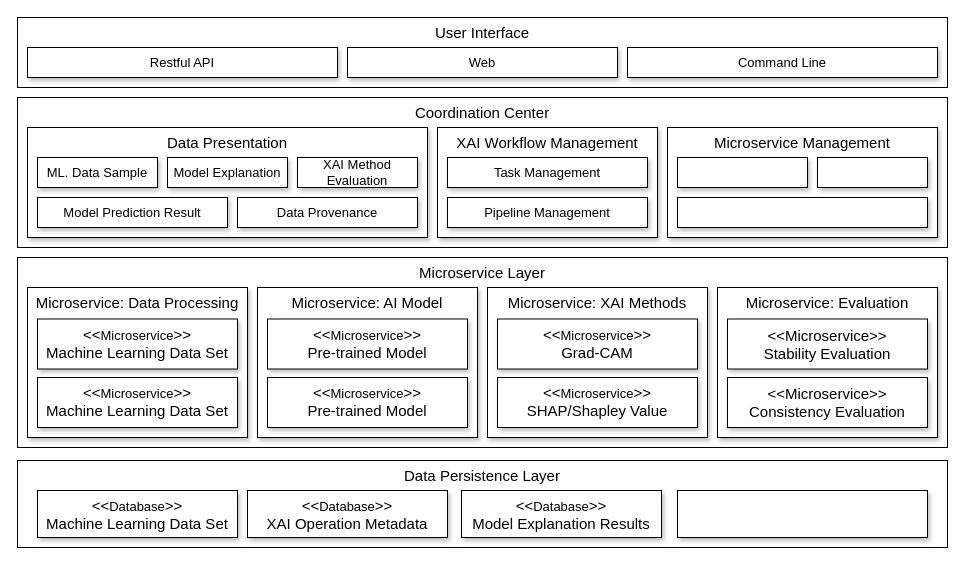
This 965x565 diagram has some shape labels left out. Here are the shapes that lost their labels. From the top down, the centre of each, then its label:
the point at 743,173: Service Registration
the point at 873,173: Service Update
the point at 803,213: Service Remove
the point at 803,515: << Database >> XAI Method Evaluation Results
